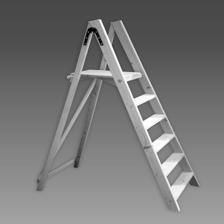Feet: (15, 50, 216, 169)
